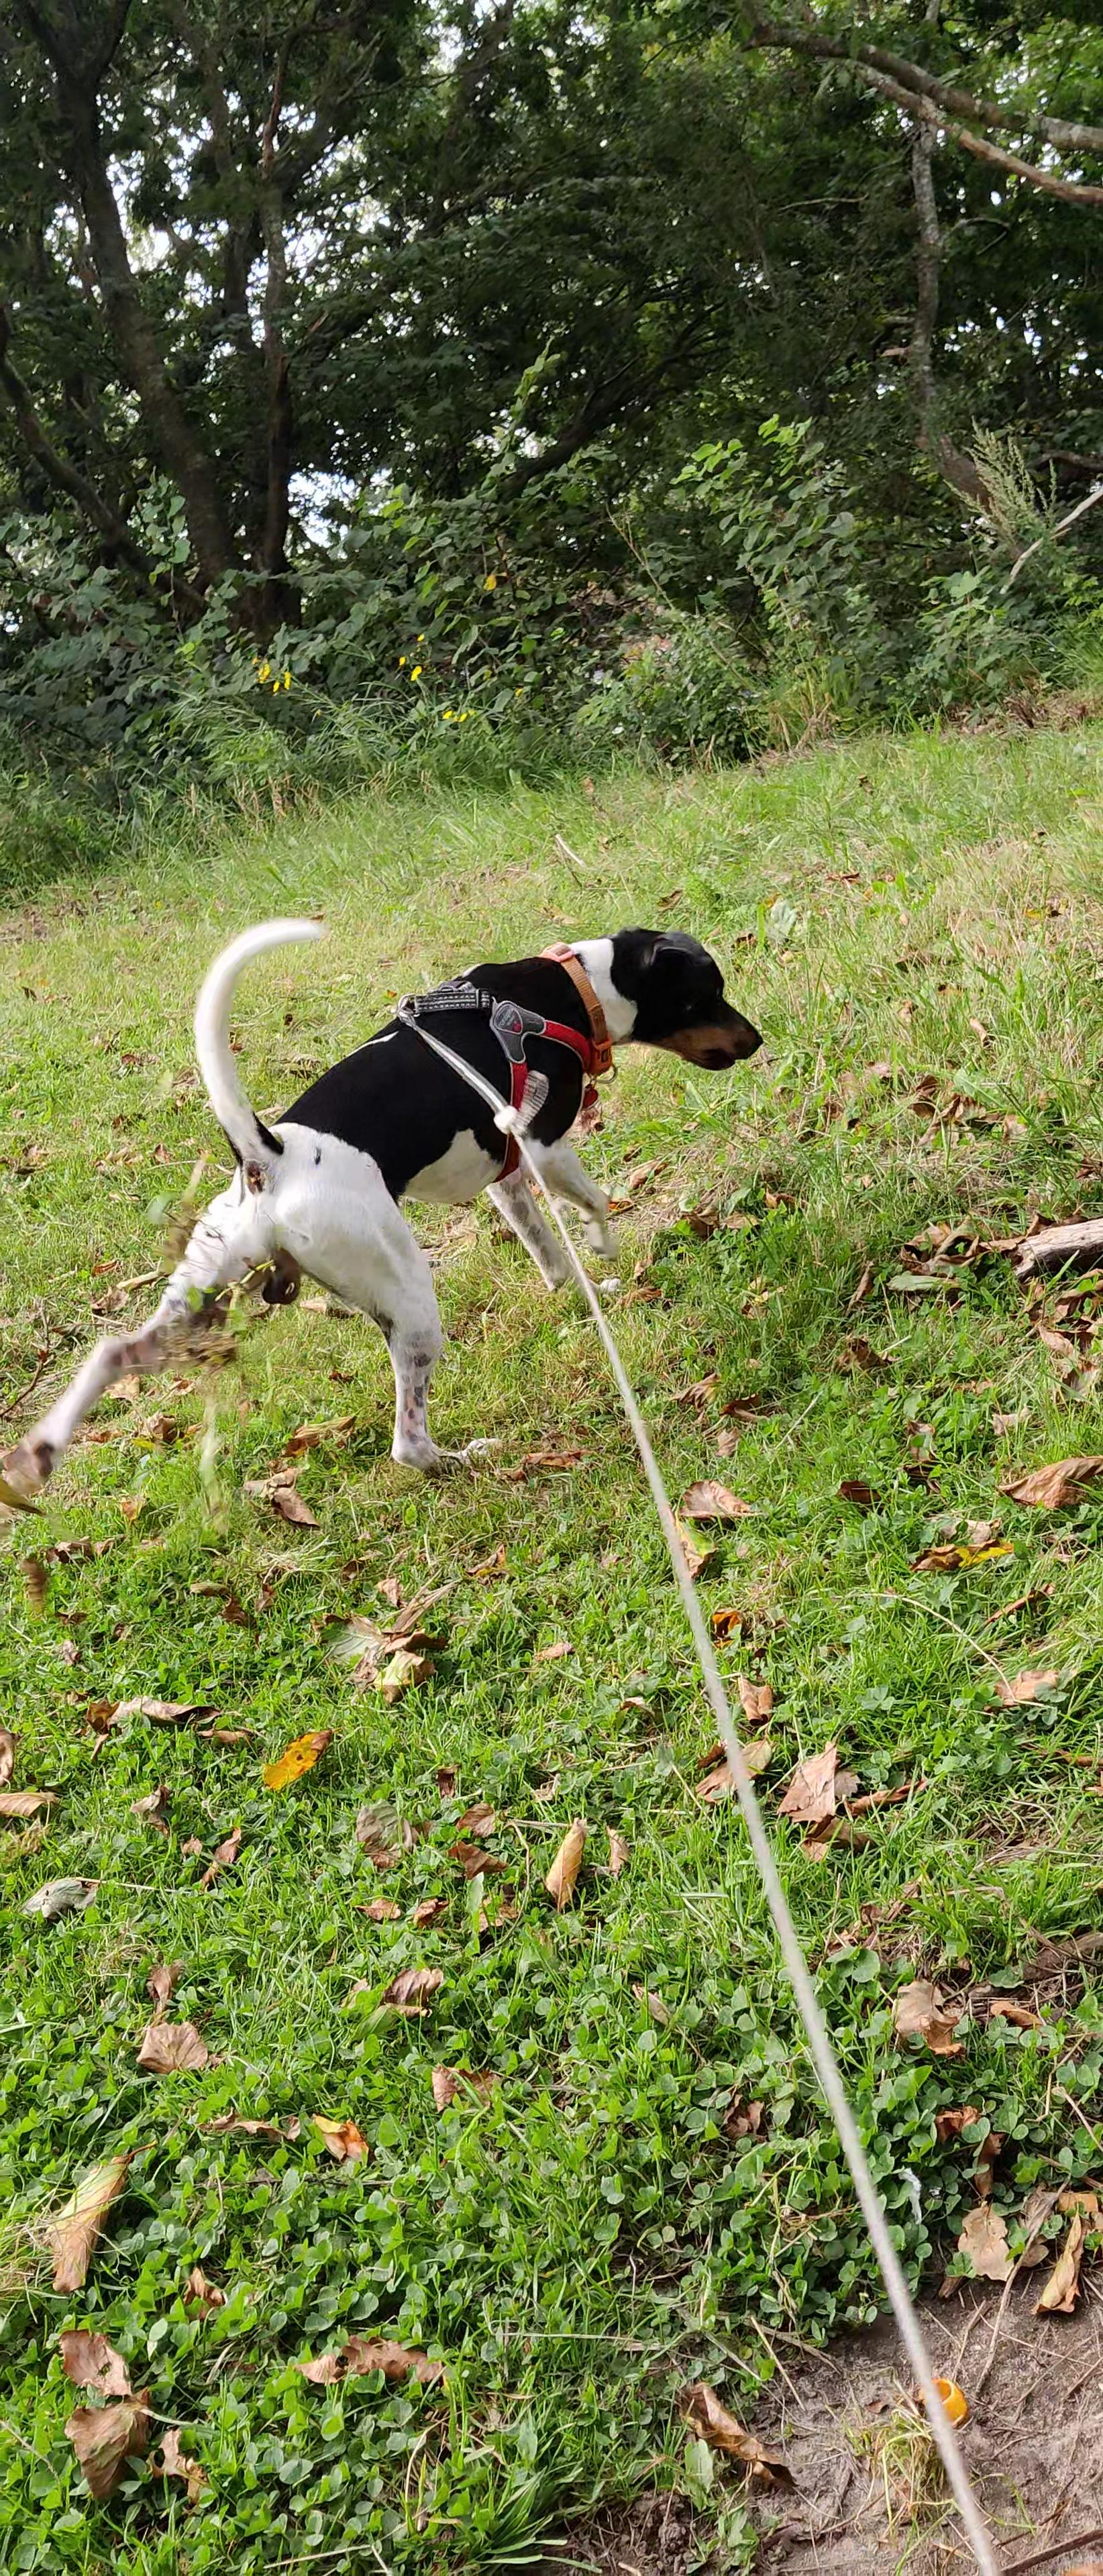Dog: (0, 902, 768, 1500)
